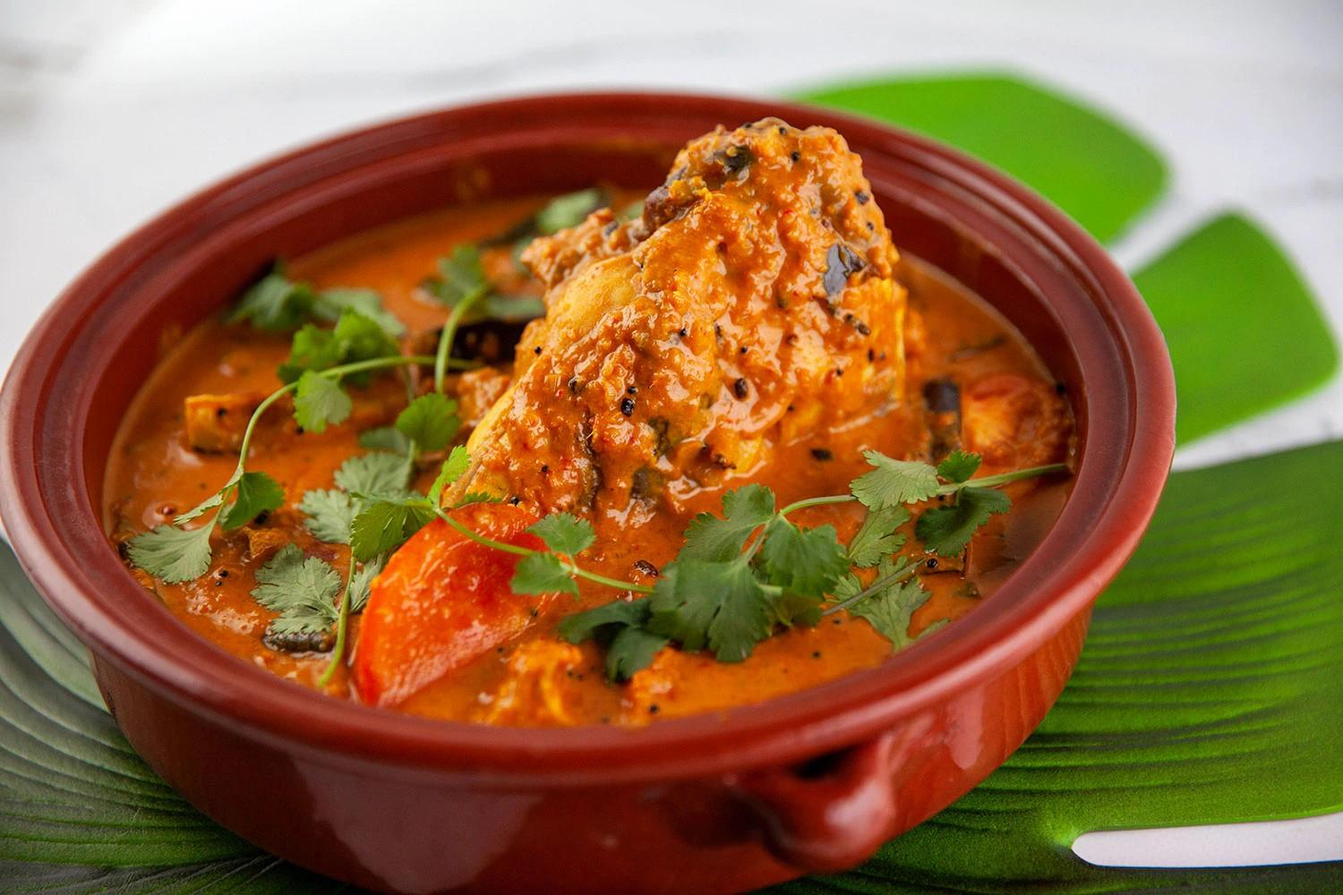FishCurry: (91, 118, 1066, 732)
